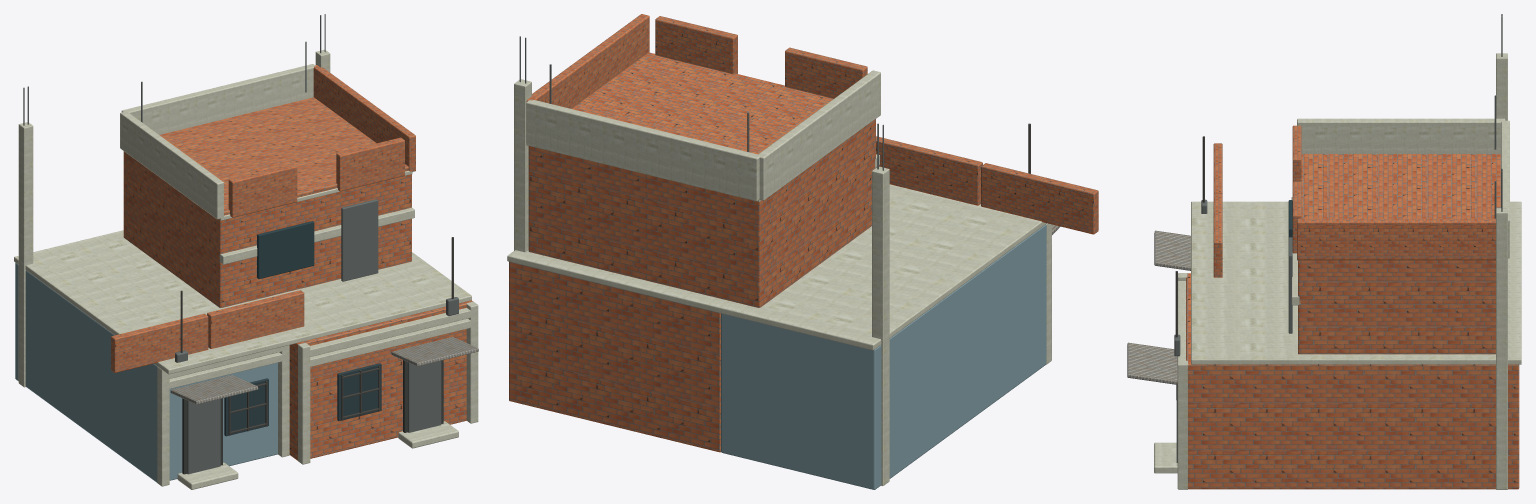
The model's file is lajes_modulo_c.glb.
3 renders of one model, left to right at view 1: azimuth 30°, elevation 25°; view 2: azimuth 150°, elevation 25°; view 3: azimuth 270°, elevation 25°, orthographic. The views are drawn at different scales.
Visible parts, largest first — view 1: lajes_modulo_c; view 2: lajes_modulo_c; view 3: lajes_modulo_c.
Boxes of the visible parts, box(x1,y1,x2,y2) form: lajes_modulo_c: box(14, 14, 478, 489); lajes_modulo_c: box(507, 14, 1098, 489); lajes_modulo_c: box(1127, 14, 1521, 489).
Size of the model in its own units: 8.69 by 7.1 by 7.99.
Materials: 9 (3 with a texture image).
